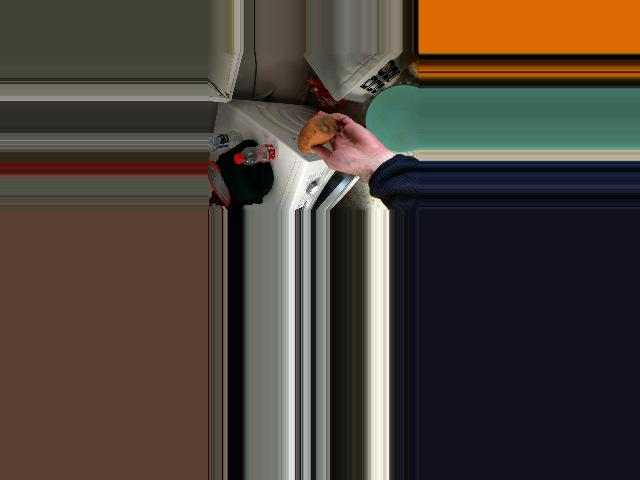sweet_potato: (297, 118, 342, 157)
